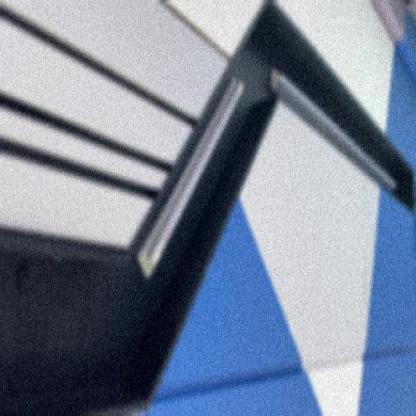light_off: (133, 55, 246, 288), (265, 50, 404, 220)
